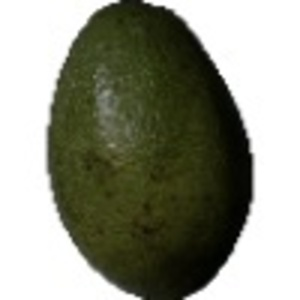abacate: (41, 1, 254, 297)
